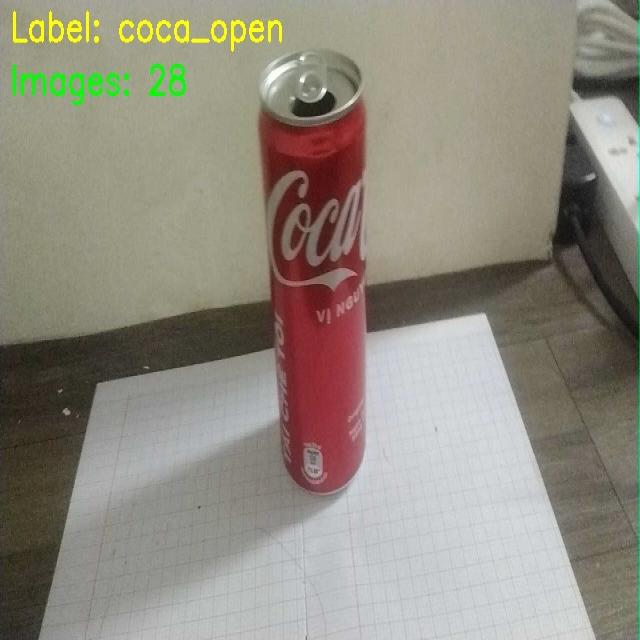Coca_open: (250, 46, 386, 497)
